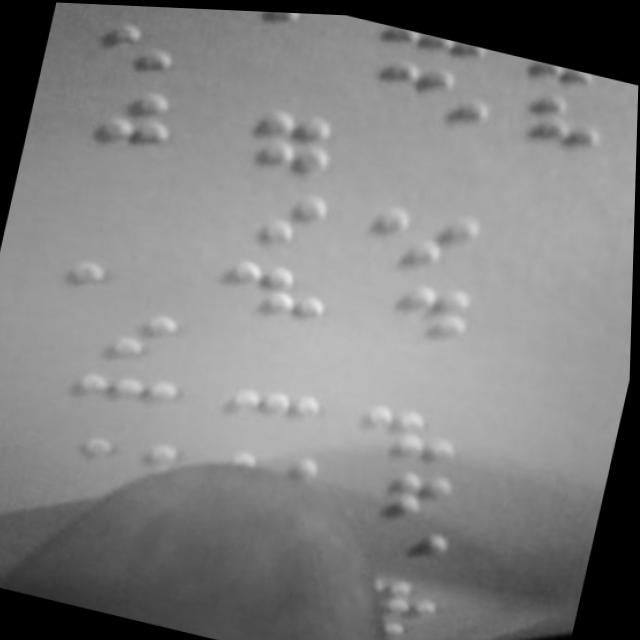braiile: (48, 65, 185, 155), (214, 94, 345, 184), (66, 354, 192, 446), (49, 5, 179, 93), (372, 39, 498, 129), (209, 168, 340, 252), (358, 260, 485, 343), (369, 190, 489, 272), (216, 249, 339, 328), (73, 286, 191, 368), (223, 371, 328, 459), (355, 387, 464, 466), (83, 3, 188, 23)
